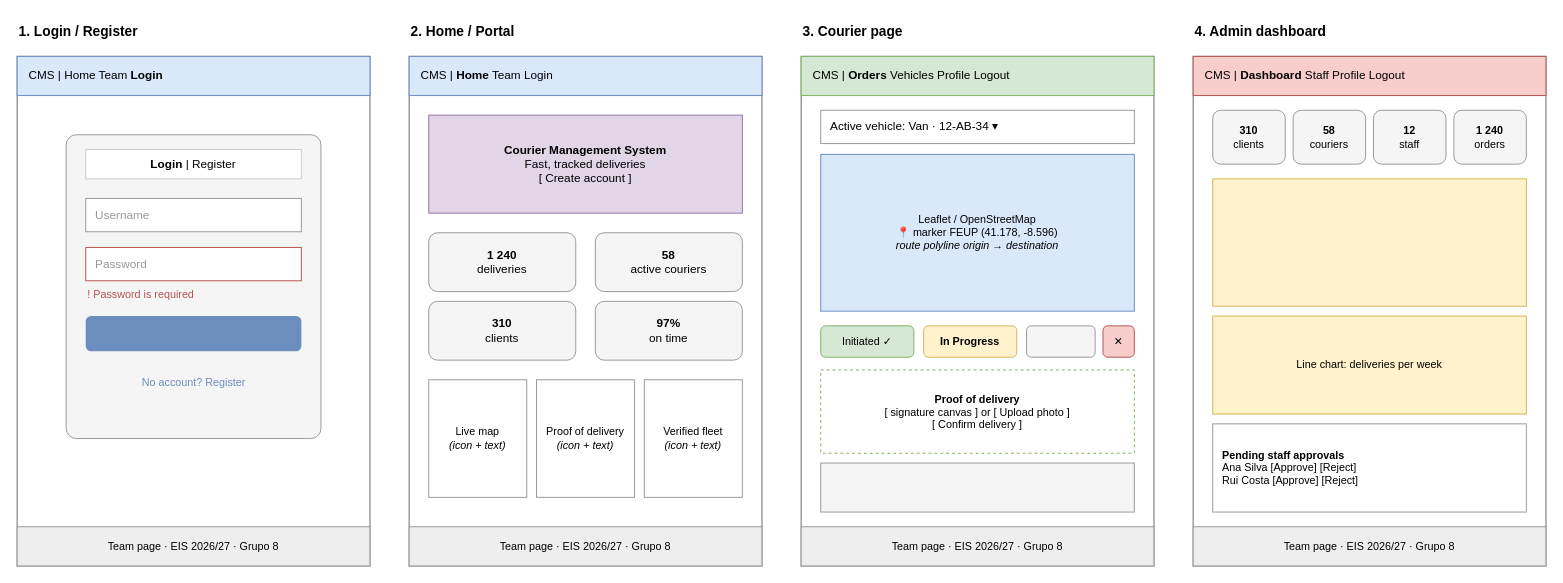
The diagram is 1563 pixels wide and 583 high, and some of its shapes have lost their labels. The shapes that lost their labels are listed below. From the top down, each one's box as (x1, y1, x2, y2) in pixels, then its label:
(1212, 178, 1526, 306): Bar chart: orders by status (Initiated · In Progress · Completed · Cancelled)
(85, 316, 301, 351): Login
(1026, 325, 1095, 357): Completed
(820, 462, 1134, 512): Completed orders: #1021 · #1017 · #1009 …
